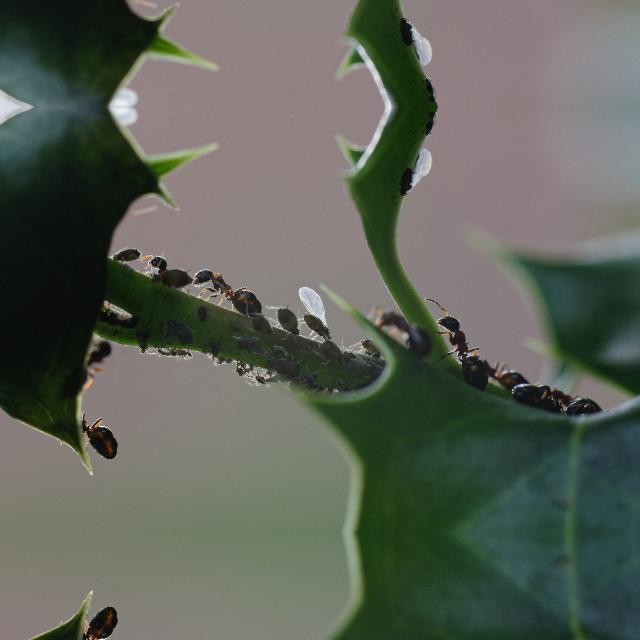Dolichoderus: (509, 374, 606, 418), (430, 303, 486, 373), (188, 264, 266, 314), (372, 301, 433, 354), (471, 345, 534, 393), (68, 408, 120, 462), (66, 602, 120, 640), (91, 300, 137, 332), (74, 338, 110, 378), (148, 250, 174, 284)
